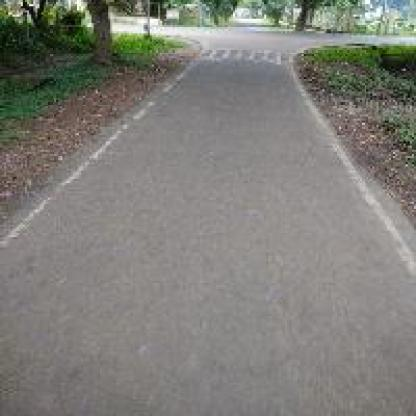Speed Bump: (202, 46, 291, 64)
